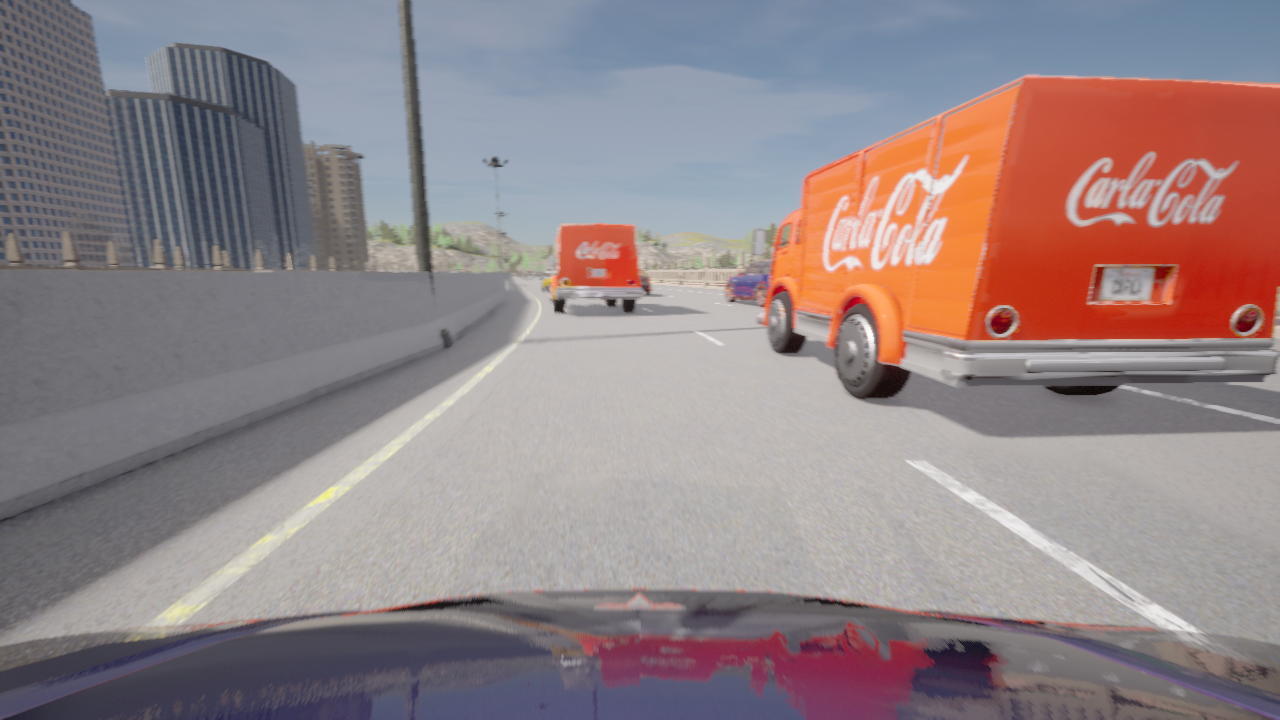cyclist: (752, 75, 1279, 398), (0, 588, 1279, 719), (549, 223, 642, 313), (725, 260, 772, 307), (541, 270, 556, 291), (639, 269, 651, 295)
